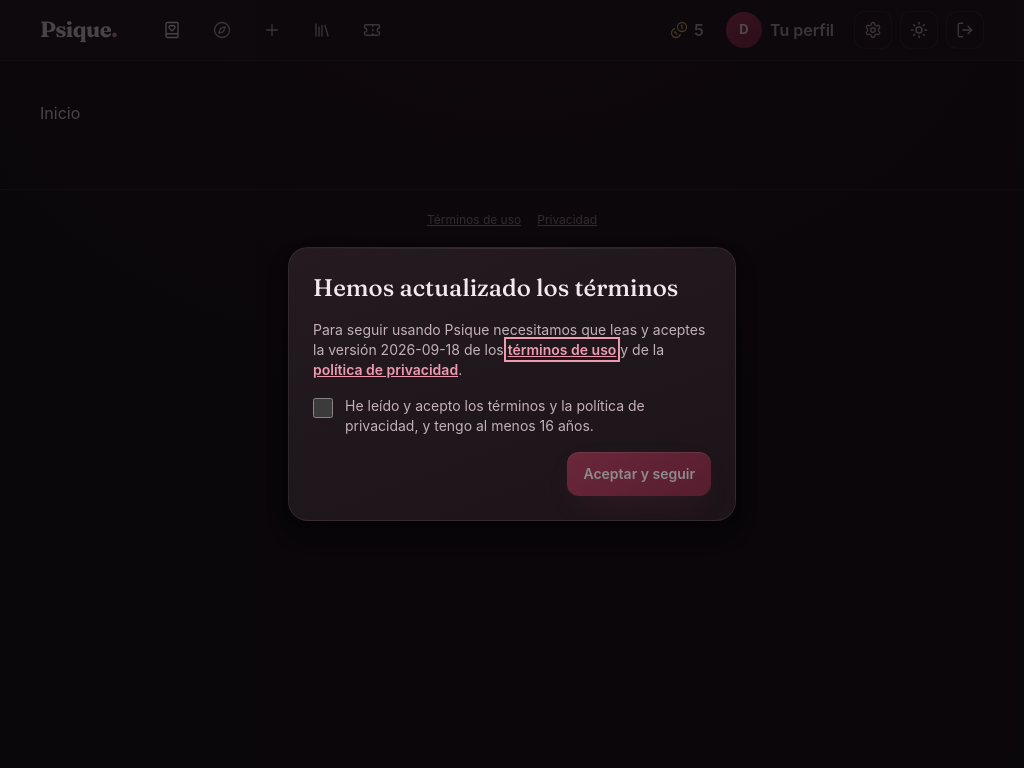
Test case: Re-aceptación de términos › bloquea con termsAccepted=false, no se cierra con Escape y desaparece al aceptar
The width and height of the screenshot is (1024, 768).
Step 1. Press Escape
Expected: the dialog "Hemos actualizado los términos" is shown, [288,247,736,521]
Expected: the button "Aceptar y seguir" is disabled, [567,452,711,496]
Step 2. Click the checkbox named "tengo al menos 16 años" → click(323, 408), box [313,398,333,418]
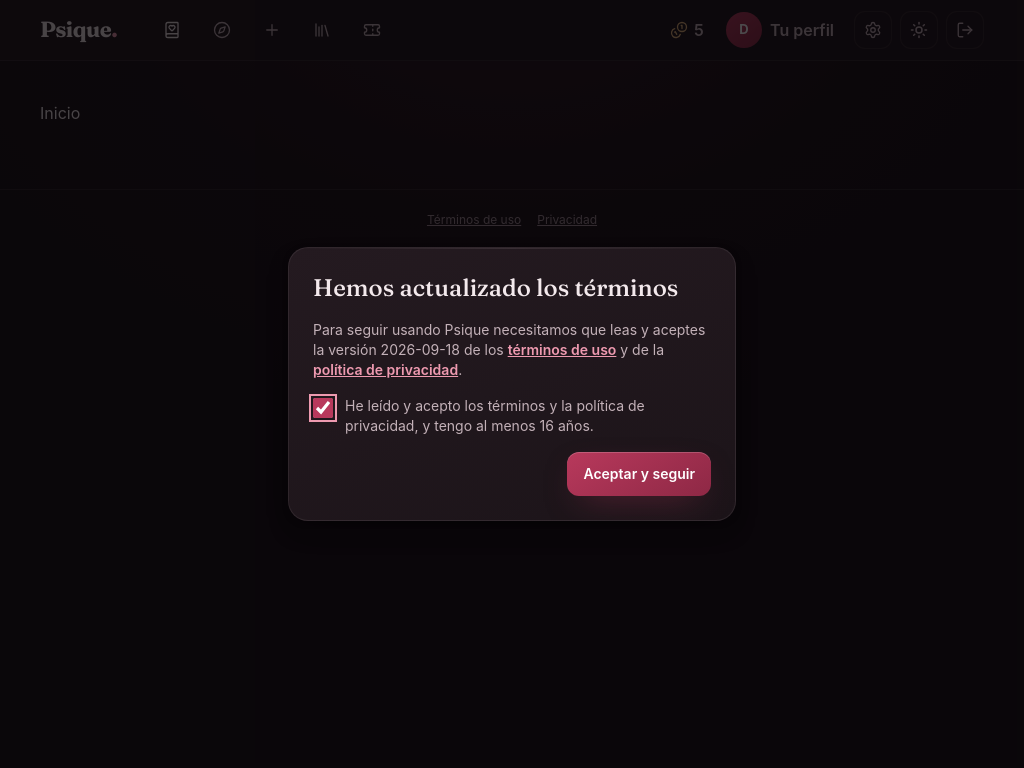
Step 3. Click the button "Aceptar y seguir" → click(639, 474), box [567,452,711,496]
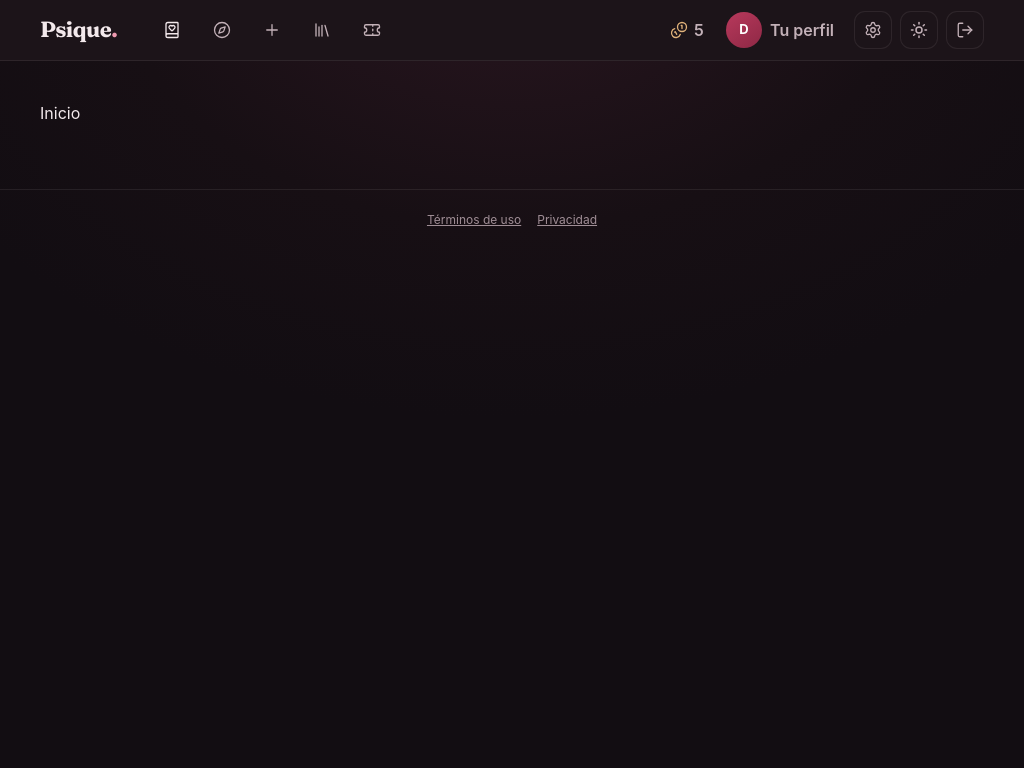
Expected: the dialog is gone
